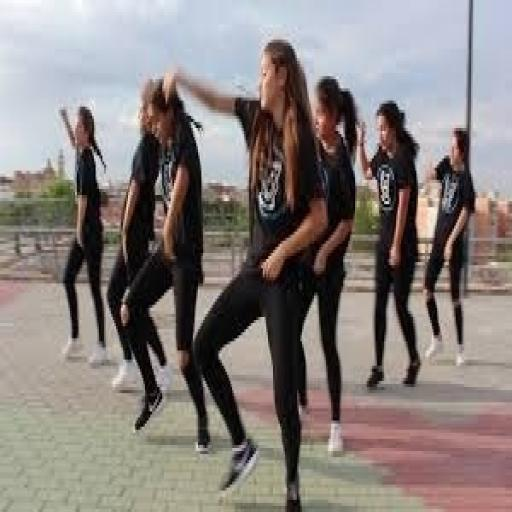dancing: (167, 33, 331, 509), (65, 39, 204, 441)
